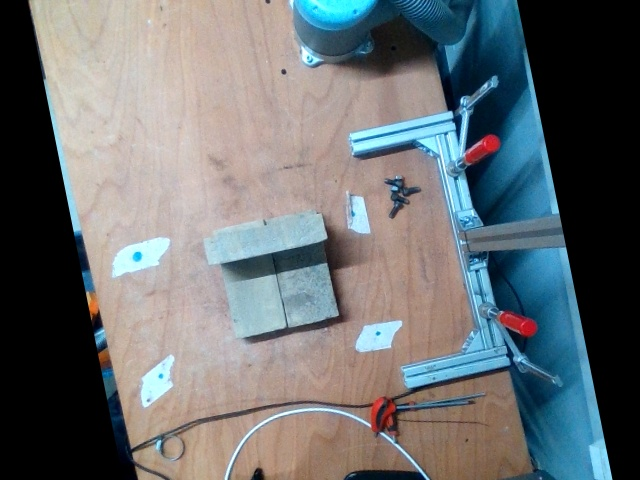brick-side: (206, 215, 326, 265)
